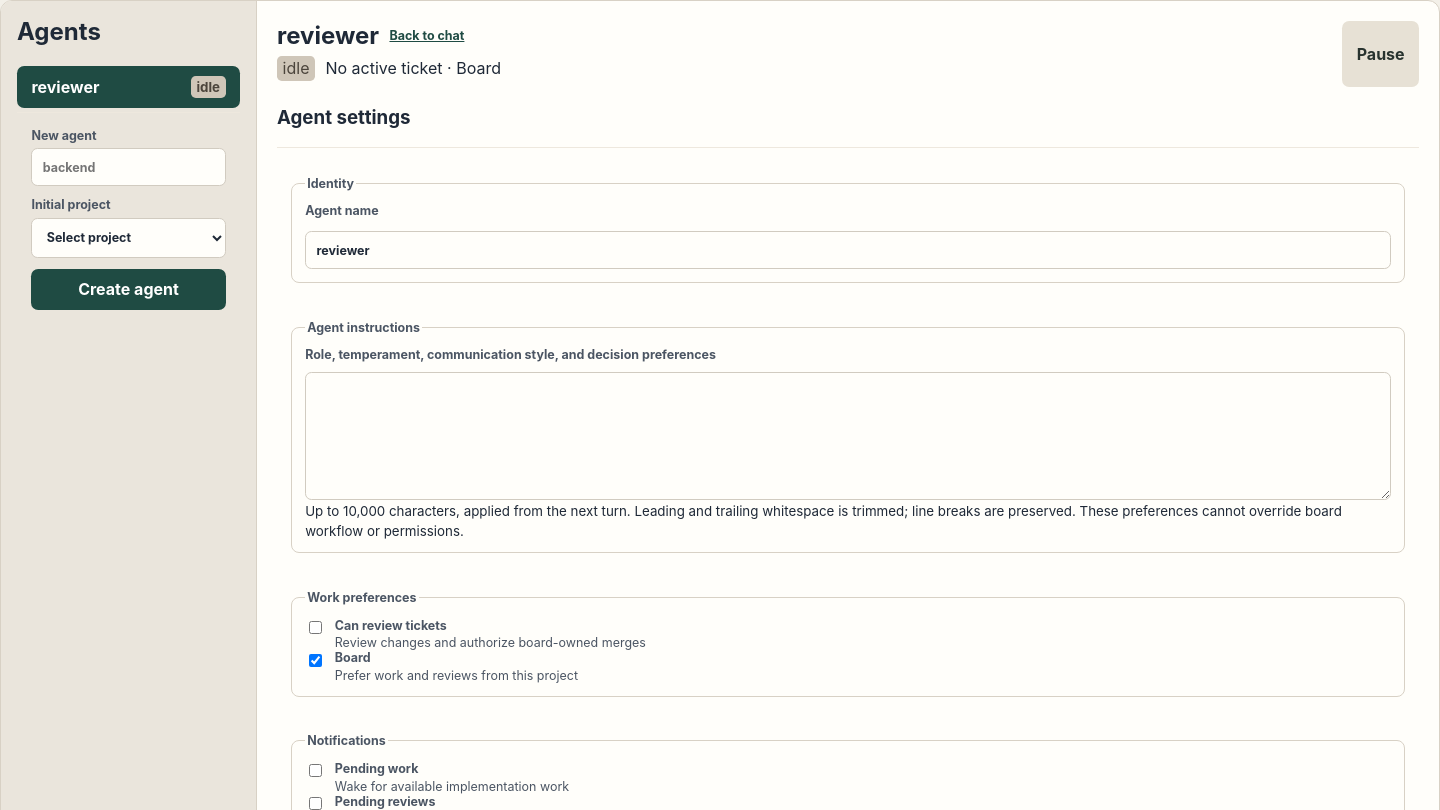
Test: AgentWorkspace › assigns the review capability with one explicit save
Click the checkbox labelled "Can review tickets" at (316,628), box top-left (309, 621), bottom-right (322, 634)
(page scrolled)
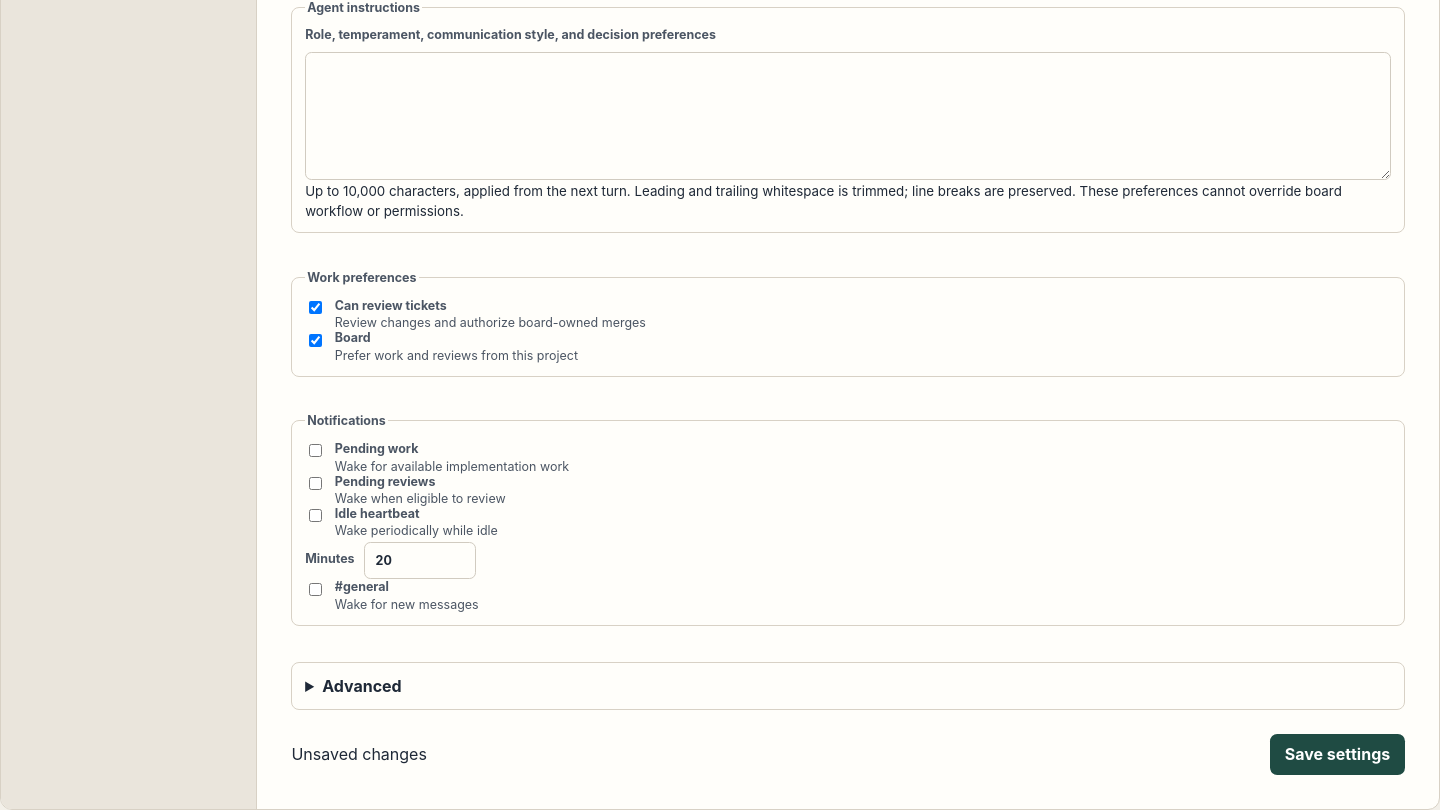
Now the message reads "Unsaved changes", box top-left (291, 744), bottom-right (427, 764)
Click the button "Save settings" at (1337,754), box top-left (1270, 734), bottom-right (1405, 775)
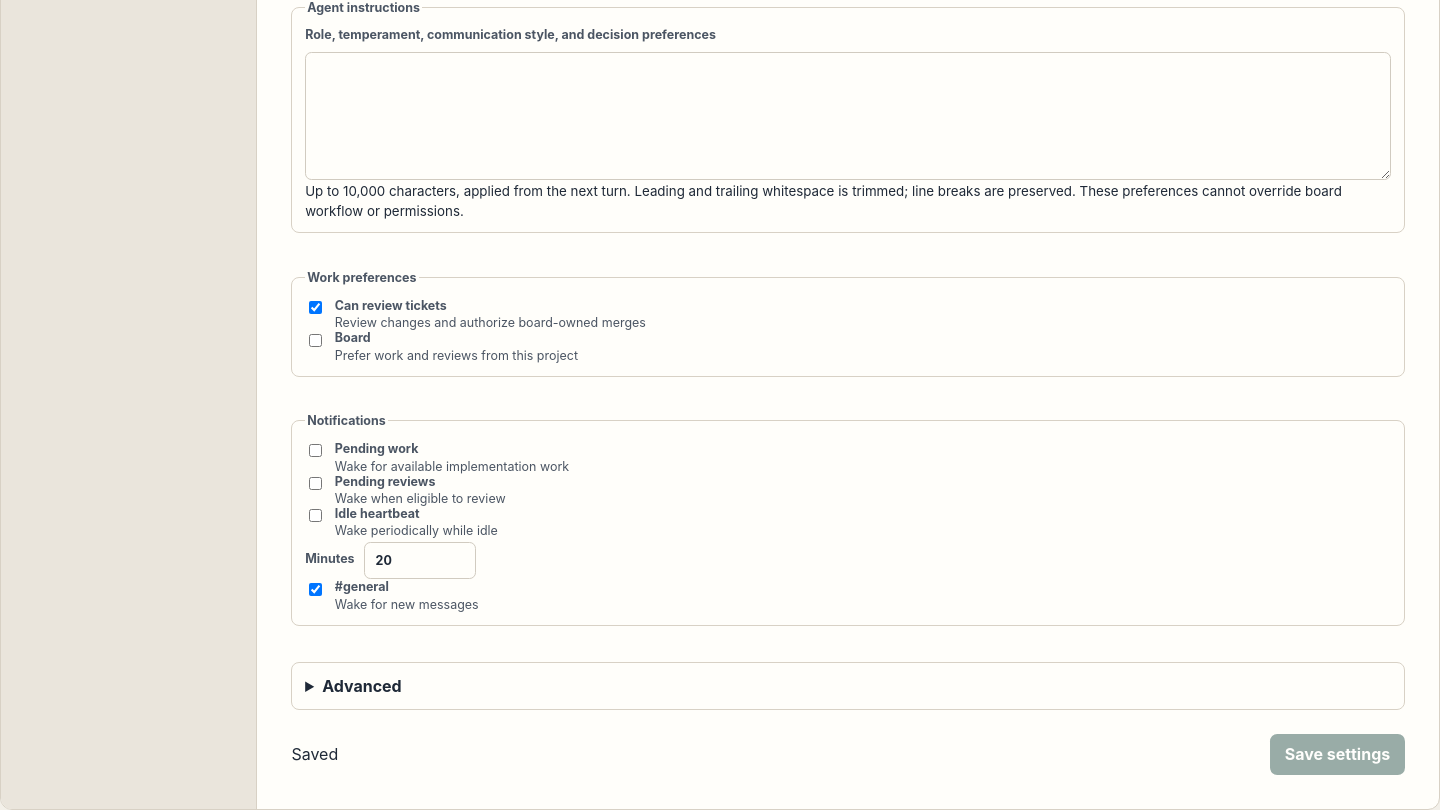
Now the message reads "Saved", box top-left (291, 744), bottom-right (338, 764)
